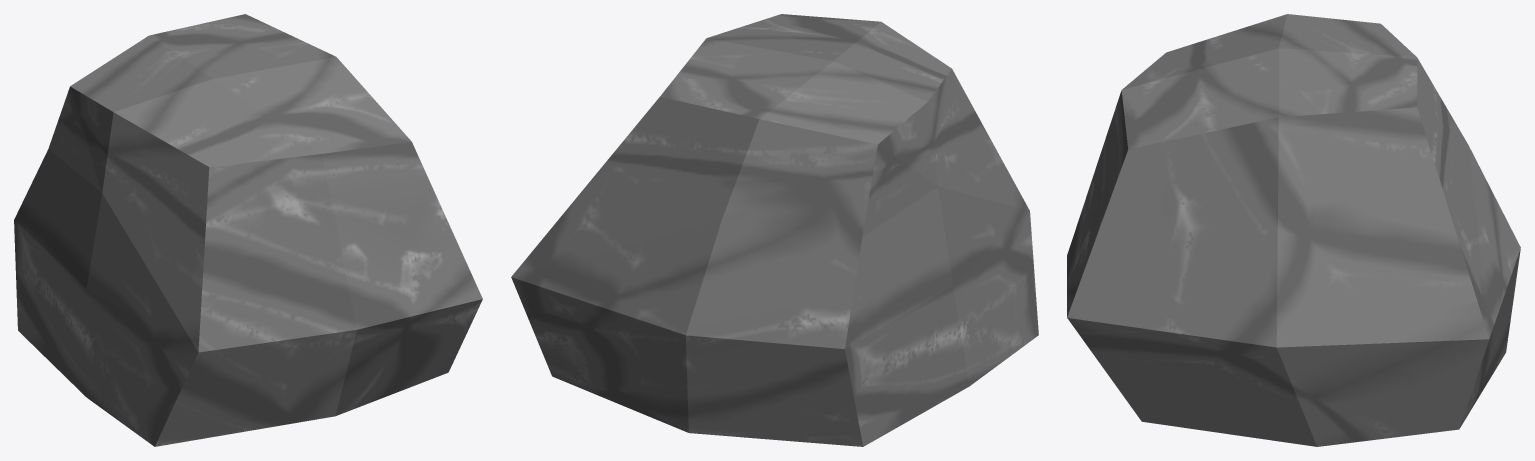
Rendered from Rock_1.FBX.
3 renders of one model, left to right at view 1: azimuth 30°, elevation 25°; view 2: azimuth 150°, elevation 25°; view 3: azimuth 270°, elevation 25°, orthographic. The views are drawn at different scales.
Parts seen in each view (by area): view 1: Box002; view 2: Box002; view 3: Box002.
Part boxes in pixels (left/top/right/bottom): Box002: left=14, top=14, right=482, bottom=446; Box002: left=511, top=14, right=1038, bottom=446; Box002: left=1067, top=14, right=1520, bottom=446.
Bounding box in the file's own units: 9.67 × 7.43 × 10.54.
